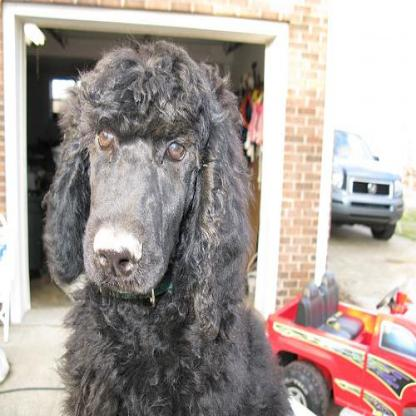standard_poodle: (43, 39, 293, 414)
